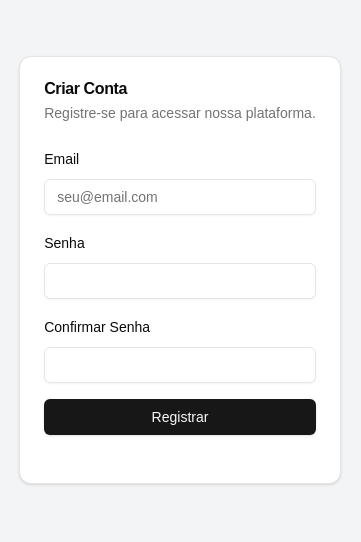
Test: Registro de Usuário › Deve mostrar mensagem de erro se os campos estiverem vazios ao submeter
Click the submit button at (180, 417), box [44, 399, 316, 435]
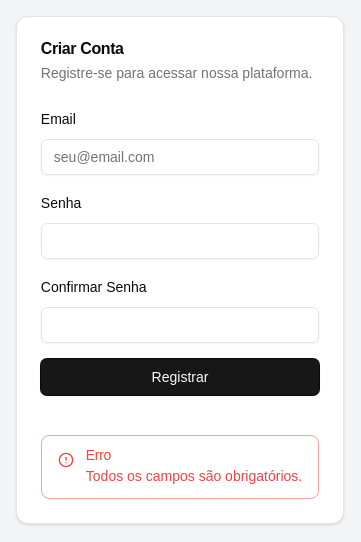
Expected: the text "Todos os campos são obrigatórios." is shown, [58, 466, 302, 486]
